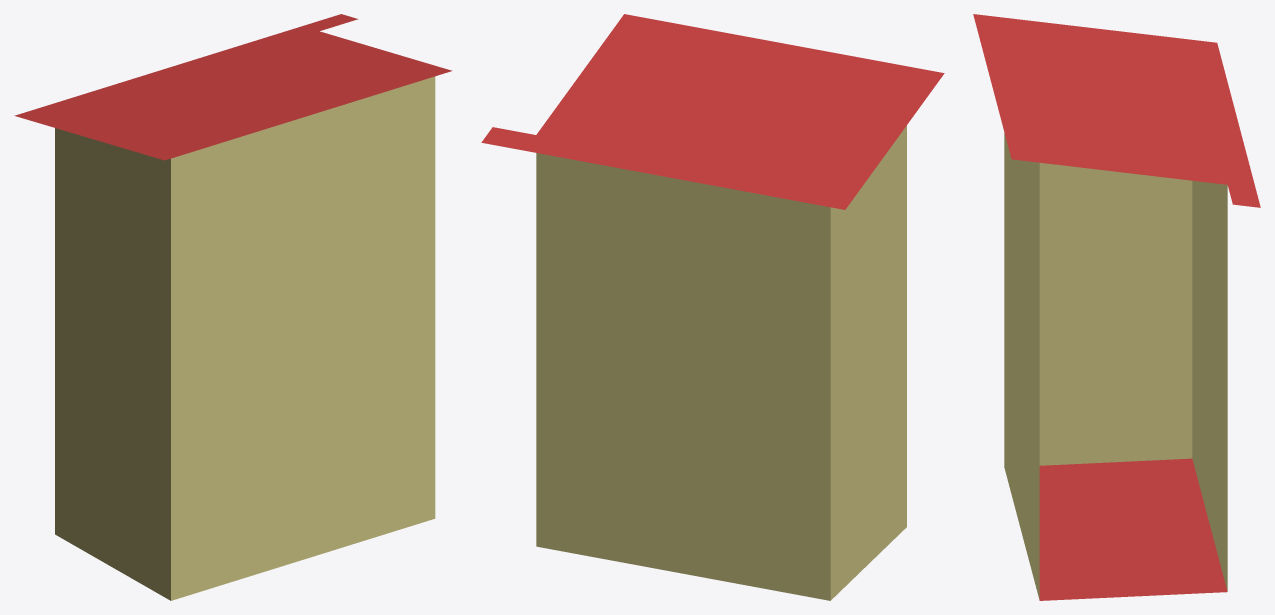
The picture shows the model from 3 angles, left to right: view 1: azimuth 30°, elevation 25°; view 2: azimuth 150°, elevation 25°; view 3: azimuth 270°, elevation 25°; orthographic projection. The views are drawn at different scales.
Bounding box in the file's own units: 6.97 × 5.09 × 8.65.
